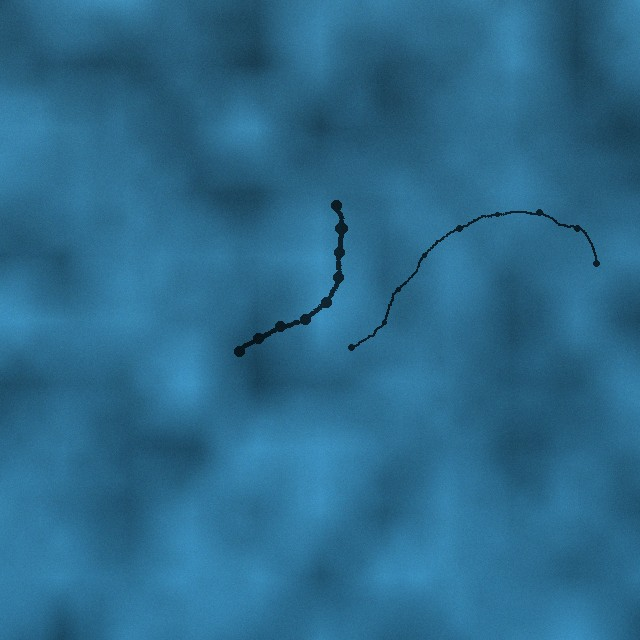crack: (347, 207, 600, 351), (232, 198, 349, 358)
